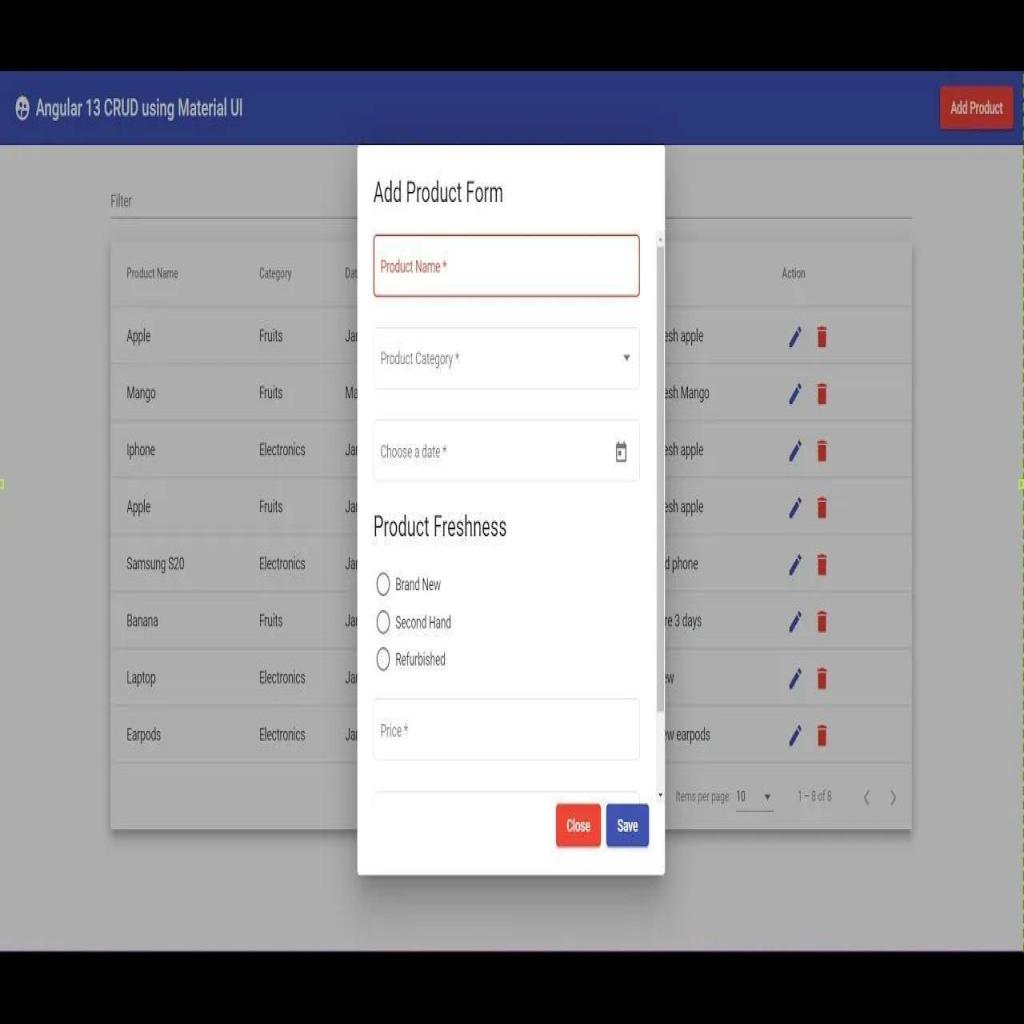button: (934, 81, 1016, 135), (555, 804, 602, 848), (606, 802, 650, 846)
dropdown: (374, 329, 639, 391), (732, 784, 774, 810)
icon: (784, 722, 806, 750), (788, 663, 805, 695), (787, 495, 803, 522), (816, 494, 830, 524), (816, 607, 830, 637), (815, 721, 831, 747), (861, 781, 874, 812), (815, 436, 829, 464), (788, 606, 802, 634), (788, 553, 803, 579), (815, 664, 830, 690), (788, 438, 802, 465), (788, 381, 802, 407), (816, 380, 829, 408), (815, 552, 828, 580), (788, 326, 802, 350), (886, 782, 898, 809), (817, 324, 828, 353)
input: (374, 233, 640, 299), (373, 420, 640, 482), (374, 700, 640, 762)
label: (35, 94, 246, 131), (370, 508, 512, 543), (370, 175, 504, 209), (396, 613, 453, 633), (394, 651, 448, 670), (394, 574, 444, 594)
radio: (375, 570, 392, 599), (374, 646, 392, 672), (376, 610, 391, 636)
